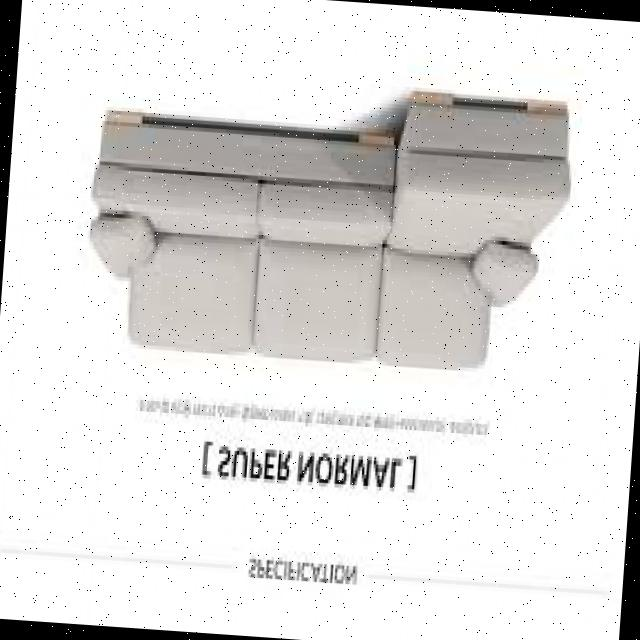Sofa: (65, 44, 606, 405)
